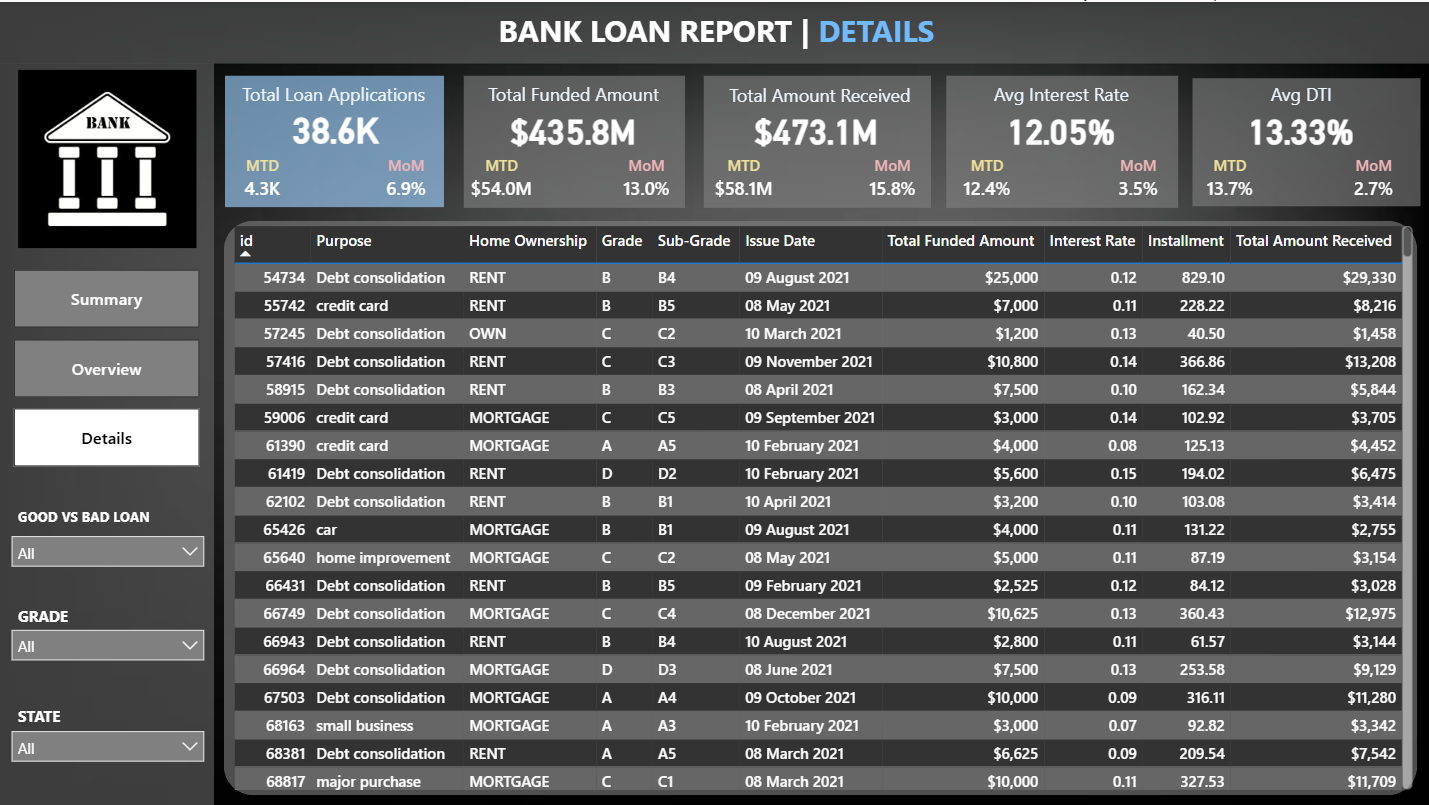

This screenshot's page, from the dashboard's own definition file:
{"tool":"powerbi","page":{"name":"Details","canvas":[1280,720],"ordinal":2},"visuals":[{"type":"shape","box":[0,0,1280.3,55],"z":0},{"type":"shape","box":[414.4,65.9,197.6,118],"z":0,"group":"g2"},{"type":"shape","box":[628.5,65.9,203,118],"z":0,"group":"g4"},{"type":"shape","box":[845.3,65.9,207.1,118],"z":0,"group":"g5"},{"type":"shape","box":[201,66.1,195.6,117.4],"z":0,"group":"g3"},{"type":"shape","box":[1065.2,68.7,203.7,114.7],"z":0,"group":"g6"},{"type":"shape","box":[0,54.9,191.6,665.1],"z":1000},{"type":"card","fields":{"Values":["bank_loan_data.Total Loan Applications"]},"box":[202.6,91.6,195.6,43.2],"z":1000,"group":"g3"},{"type":"card","fields":{"Values":["bank_loan_data.Total Funded Amount"]},"box":[413,93,197.6,43.4],"z":1000,"group":"g2"},{"type":"card","fields":{"Values":["bank_loan_data.Total Amount Received"]},"box":[627.1,93,203,43.4],"z":1000,"group":"g4"},{"type":"card","fields":{"Values":["bank_loan_data.Avg Interest Rate"]},"box":[843.9,93,207.1,43.4],"z":1000,"group":"g5"},{"type":"card","fields":{"Values":["bank_loan_data.Avg DTI"]},"box":[1064.4,93.1,195.6,43.2],"z":1000,"group":"g6"},{"type":"textbox","box":[385.8,2.7,507.3,47.2],"z":2000},{"type":"textbox","box":[414.4,65.9,196.2,38],"z":2000,"group":"g2"},{"type":"textbox","box":[845.3,65.9,205.7,38],"z":2000,"group":"g5"},{"type":"textbox","box":[201,66.1,194.3,37.8],"z":2000,"group":"g3"},{"type":"textbox","box":[1065.7,66.1,194.3,37.8],"z":2000,"group":"g6"},{"type":"textbox","box":[630.9,67.1,203,35.3],"z":2000,"group":"g4"},{"type":"group","id":"g1","title":"Group 1","box":[201,66.1,197,117.4],"z":3000},{"type":"card","title":"MTD","fields":{"Values":["bank_loan_data.MTD Loan Applications"]},"box":[202.3,136.3,64.8,47.2],"z":3000,"group":"g3"},{"type":"card","title":"MTD","fields":{"Values":["bank_loan_data.MTD Avg DTI"]},"box":[1067.1,136.3,64.8,47.2],"z":3000,"group":"g6"},{"type":"card","title":"MTD","fields":{"Values":["bank_loan_data.MTD Funded Amount"]},"box":[415.7,136.4,65.4,47.5],"z":3000,"group":"g2"},{"type":"card","title":"MTD","fields":{"Values":["bank_loan_data.MTD Amount Received"]},"box":[629.9,136.4,67.2,47.5],"z":3000,"group":"g4"},{"type":"card","title":"MTD","fields":{"Values":["bank_loan_data.MTD Avg Interest Rate"]},"box":[846.8,136.4,68.6,47.5],"z":3000,"group":"g5"},{"type":"group","id":"g2","title":"Group 2","box":[413,65.9,199,118],"z":4000},{"type":"card","title":"MoM","fields":{"Values":["bank_loan_data.MoM Loan Applications"]},"box":[330.5,136.3,64.8,47.2],"z":4000,"group":"g3"},{"type":"card","title":"MoM","fields":{"Values":["bank_loan_data.MoM Avg DTI"]},"box":[1195.3,136.3,64.8,47.2],"z":4000,"group":"g6"},{"type":"card","title":"MoM","fields":{"Values":["bank_loan_data.MoM Funded Amount"]},"box":[545.2,136.4,65.4,47.5],"z":4000,"group":"g2"},{"type":"card","title":"MoM","fields":{"Values":["bank_loan_data.MoM Amount Received"]},"box":[762.9,136.4,67.2,47.5],"z":4000,"group":"g4"},{"type":"card","title":"MoM","fields":{"Values":["bank_loan_data.MoM Avg Interest Rate"]},"box":[982.5,136.4,68.6,47.5],"z":4000,"group":"g5"},{"type":"group","id":"g3","title":"Group 2","box":[201,66.1,197.2,117.4],"z":4005,"group":"g1"},{"type":"group","id":"g4","title":"Group 2","box":[627.1,65.9,207.2,118],"z":5000},{"type":"group","id":"g5","title":"Group 2","box":[843.9,65.9,208.6,118],"z":6000},{"type":"group","id":"g6","title":"Group 2","box":[1064.4,66.1,204.5,117.4],"z":7000},{"type":"slicer","fields":{"Values":["bank_loan_data.address_state"]},"box":[0,640.8,192.1,50.8],"z":8000},{"type":"textbox","box":[11,624.4,123.5,32.9],"z":9000},{"type":"slicer","fields":{"Values":["bank_loan_data.grade"]},"box":[0,550.3,192.1,49.4],"z":10000},{"type":"textbox","box":[11,446,163.3,32.9],"z":11000},{"type":"textbox","box":[11,535.2,123.5,30.2],"z":12000},{"type":"slicer","fields":{"Values":["bank_loan_data.Good vs Bad Loan"]},"box":[0,466.6,192.1,49.4],"z":13000},{"type":"shape","box":[200.3,194.9,1066.2,513.2],"z":13001},{"type":"tableEx","fields":{"Values":["bank_loan_data.id","bank_loan_data.purpose","bank_loan_data.home_ownership","bank_loan_data.grade","bank_loan_data.sub_grade","bank_loan_data.issue_date","bank_loan_data.Total Funded Amount","Sum(bank_loan_data.int_rate)","Sum(bank_loan_data.installment)","bank_loan_data.Total Amount Received"]},"box":[203.1,194.9,1063.5,513.2],"z":13002},{"type":"pageNavigator","box":[12.3,238.8,166,178.4],"z":13003},{"type":"image","box":[6.7,55.3,178.1,168.6],"z":13004}]}

Visuals, with their boxes in screenshot pixels (x1, y1, x2, y2), scaled from the page's 1280x720 canvas onto the 1429x805 screenshot:
shape: region(0, 0, 1428, 61)
shape: region(463, 74, 683, 206)
shape: region(702, 74, 928, 206)
shape: region(944, 74, 1175, 206)
shape: region(224, 74, 443, 205)
shape: region(1189, 77, 1417, 205)
shape: region(0, 61, 214, 804)
card - bank_loan_data.Total Loan Applications: region(226, 102, 445, 151)
card - bank_loan_data.Total Funded Amount: region(461, 104, 682, 153)
card - bank_loan_data.Total Amount Received: region(700, 104, 927, 153)
card - bank_loan_data.Avg Interest Rate: region(942, 104, 1173, 153)
card - bank_loan_data.Avg DTI: region(1188, 104, 1407, 152)
textbox: region(431, 3, 997, 56)
textbox: region(463, 74, 682, 116)
textbox: region(944, 74, 1173, 116)
textbox: region(224, 74, 441, 116)
textbox: region(1190, 74, 1407, 116)
textbox: region(704, 75, 931, 114)
"Group 1" group: region(224, 74, 444, 205)
"MTD" card: region(226, 152, 298, 205)
"MTD" card: region(1191, 152, 1264, 205)
"MTD" card: region(464, 153, 537, 206)
"MTD" card: region(703, 153, 778, 206)
"MTD" card: region(945, 153, 1022, 206)
"Group 2" group: region(461, 74, 683, 206)
"MoM" card: region(369, 152, 441, 205)
"MoM" card: region(1334, 152, 1407, 205)
"MoM" card: region(609, 153, 682, 206)
"MoM" card: region(852, 153, 927, 206)
"MoM" card: region(1097, 153, 1173, 206)
"Group 2" group: region(224, 74, 445, 205)
"Group 2" group: region(700, 74, 931, 206)
"Group 2" group: region(942, 74, 1175, 206)
"Group 2" group: region(1188, 74, 1417, 205)
slicer - bank_loan_data.address_state: region(0, 716, 214, 773)
textbox: region(12, 698, 150, 735)
slicer - bank_loan_data.grade: region(0, 615, 214, 670)
textbox: region(12, 499, 195, 535)
textbox: region(12, 598, 150, 632)
slicer - bank_loan_data.Good vs Bad Loan: region(0, 522, 214, 577)
shape: region(224, 218, 1414, 792)
tableEx - bank_loan_data.id x bank_loan_data.purpose: region(227, 218, 1414, 792)
pageNavigator: region(14, 267, 199, 466)
image: region(7, 62, 206, 250)
